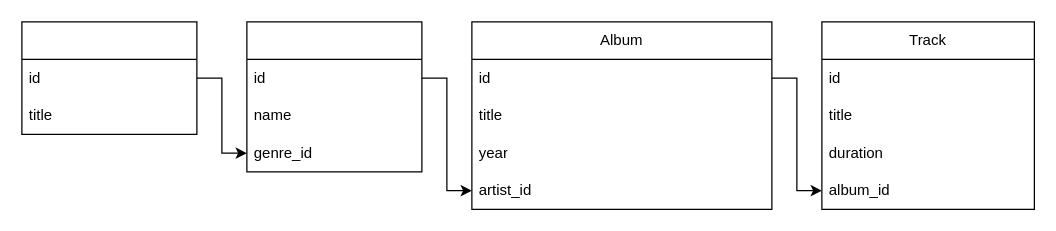
Image size: 1056x231. Some labels were removed from this diagram. Here are the shapes that lost their labels. From the top down, the box of each, then its label:
(21, 21, 197, 134): Genre
(246, 21, 422, 172): Artist
